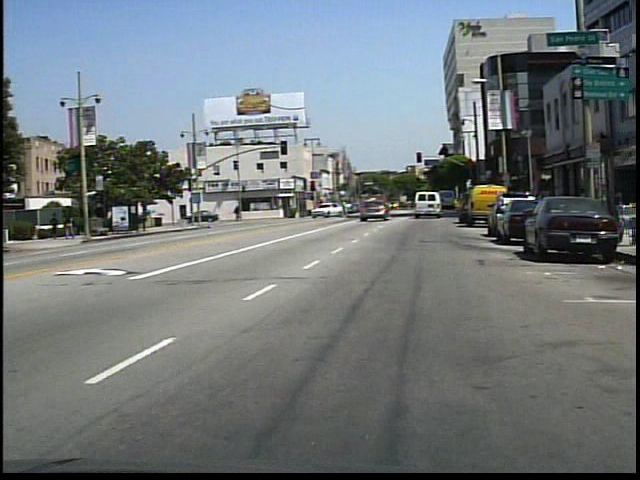person: (67, 213, 84, 244), (53, 212, 66, 241), (239, 204, 245, 223)
